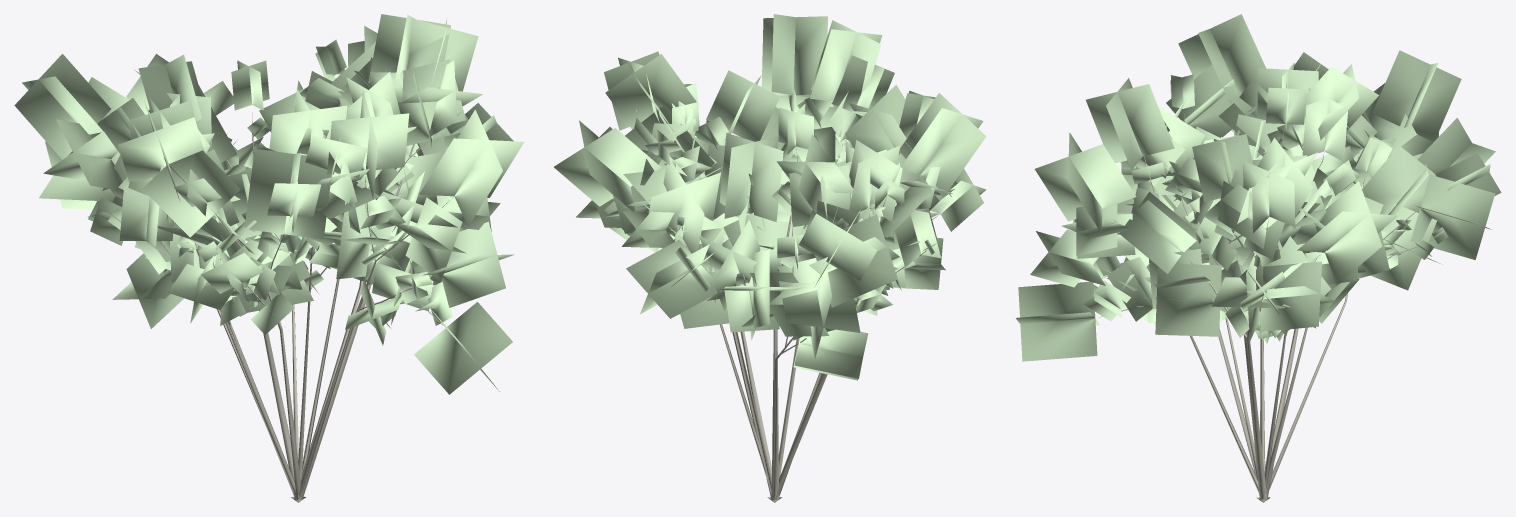
File: bush_2_v1_lod1.glb
3 renders of one model, left to right at view 1: azimuth 30°, elevation 25°; view 2: azimuth 150°, elevation 25°; view 3: azimuth 270°, elevation 25°, orthographic. The views are drawn at different scales.
Visible parts, largest first — view 1: Leaves, Branches; view 2: Leaves, Branches; view 3: Leaves, Branches.
Part boxes in pixels (x1,y1,x2,y2): Leaves: [14, 14, 524, 394]; Branches: [112, 78, 453, 502]; Leaves: [554, 14, 986, 380]; Branches: [633, 105, 938, 502]; Leaves: [1016, 14, 1501, 361]; Branches: [1094, 113, 1434, 502].
Bounding box in the file's own units: 29.34 × 31 × 32.78.
